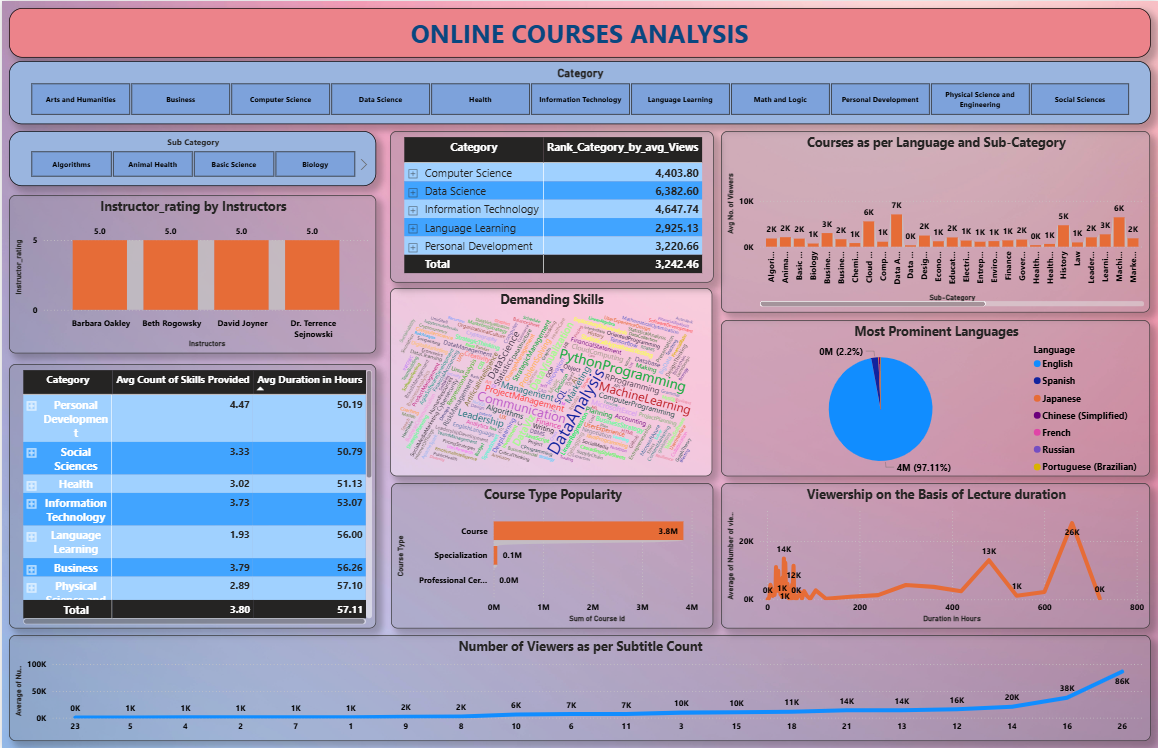

The page's visual inventory and layout, read from the dashboard file:
{"tool":"powerbi","page":{"name":"Page 1","canvas":[1700,1100],"ordinal":0},"visuals":[{"type":"textbox","box":[10,10,1678.6,72.9],"z":0},{"type":"slicer","title":"Category","fields":{"Values":["Online_Courses.Category"]},"box":[10,88.6,1678.6,92.9],"z":1000},{"type":"barChart","title":"Course Type Popularity","fields":{"Y":["Online_Courses.Course id"],"Category":["Online_Courses.Course Type"]},"box":[571.4,708.6,474.3,214.3],"z":2000},{"type":"columnChart","title":"Courses as per Language and Sub-Category","fields":{"Category":["Online_Courses.Sub-Category","Online_Courses.Language"],"Y":["Online_Courses.Number of viewers"]},"box":[1057.1,191.4,631.4,267.1],"z":3000},{"type":"WordCloud1447959067750","title":"Demanding Skills","fields":{"Category":["Online_Courses.Skills"]},"box":[570,421.4,474.3,277.1],"z":4000},{"type":"pieChart","title":"Most Prominent Languages","fields":{"Category":["Online_Courses.Language"],"Y":["Online_Courses.Course id"]},"box":[1057.1,468.6,631.4,230],"z":5000},{"type":"pivotTable","fields":{"Rows":["Online_Courses.Category","Online_Courses.Language"],"Values":["Online_Courses.rank_category_by_avg_views"]},"box":[570,191.4,475.7,222.9],"z":6000},{"type":"lineChart","title":"Number of Viewers as per Subtitle Count","fields":{"Category":["Online_Courses.Subtitle_Language_Count"],"Y":["Online_Courses.Number of viewers"]},"box":[10,932.9,1678.6,155.7],"z":7000},{"type":"columnChart","fields":{"Category":["Teachers.Instructors"],"Y":["Teachers.Instructor_rating"]},"box":[10,285.7,540,232.9],"z":8000},{"type":"slicer","title":"Sub Category","fields":{"Values":["Teachers.Sub-Category"]},"box":[10,191.4,540,81.4],"z":9000},{"type":"lineChart","title":"Viewership  on the Basis of Lecture duration","fields":{"Category":["Online_Courses.Duration in Hours"],"Y":["Online_Courses.Number of viewers"]},"box":[1057.1,708.6,631.4,214.3],"z":10000},{"type":"pivotTable","fields":{"Rows":["Online_Courses.Category","Online_Courses.Sub-Category"],"Values":["Online_Courses.Count of Skills Provided","Online_Courses.Duration in Hours"]},"box":[10,534.3,540,388.6],"z":11000}]}

Visuals, with their boxes in screenshot pixels (x1, y1, x2, y2), scaled from the page's 1700x1100 canvas onto the 1158x748 screenshot:
textbox: left=7, top=7, right=1150, bottom=56
"Category" slicer: left=7, top=60, right=1150, bottom=123
"Course Type Popularity" barChart: left=389, top=482, right=712, bottom=628
"Courses as per Language and Sub-Category" columnChart: left=720, top=130, right=1150, bottom=312
"Demanding Skills" WordCloud1447959067750: left=388, top=287, right=711, bottom=475
"Most Prominent Languages" pieChart: left=720, top=319, right=1150, bottom=475
pivotTable - Online_Courses.Category x Online_Courses.Language: left=388, top=130, right=712, bottom=282
"Number of Viewers as per Subtitle Count" lineChart: left=7, top=634, right=1150, bottom=740
columnChart - Teachers.Instructors x Teachers.Instructor_rating: left=7, top=194, right=375, bottom=353
"Sub Category" slicer: left=7, top=130, right=375, bottom=186
"Viewership  on the Basis of Lecture duration" lineChart: left=720, top=482, right=1150, bottom=628
pivotTable - Online_Courses.Category x Online_Courses.Sub-Category: left=7, top=363, right=375, bottom=628
